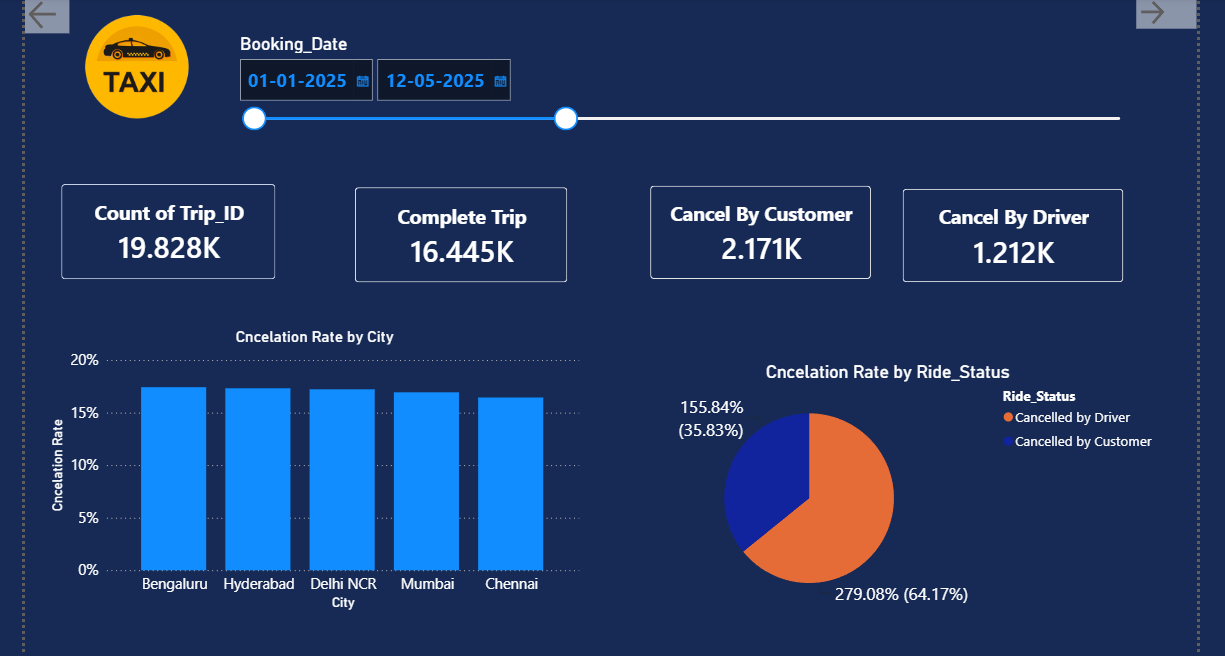

This screenshot's page, from the dashboard's own definition file:
{"tool":"powerbi","page":{"name":"Cancelation","canvas":[1280,720],"ordinal":4},"visuals":[{"type":"pieChart","fields":{"Y":["Trips.Cncelation Rate"],"Category":["Trips.Ride_Status"]},"box":[639.6,398.7,604.9,275.6],"z":0},{"type":"slicer","fields":{"Values":["Trips.Booking_Date"]},"box":[221.9,34.7,994.9,152.5],"z":1000},{"type":"cardVisual","fields":{"Data":["Count(Trips.Trip_ID)"]},"box":[22.5,187.2,268.7,138.7],"z":2000},{"type":"cardVisual","fields":{"Data":["Count(Trips.Trip_ID)"]},"box":[343.2,190.7,266.9,138.7],"z":3000},{"type":"cardVisual","fields":{"Data":["Count(Trips.Trip_ID)"]},"box":[665.8,189.6,276,136.9],"z":4000},{"type":"image","box":[34.7,0,175.1,152.5],"z":5000},{"type":"lineStackedColumnComboChart","fields":{"Category":["Drivers.City"],"Y":["Trips.Cncelation Rate"]},"box":[22.5,360.5,587.6,313.7],"z":6000},{"type":"cardVisual","fields":{"Data":["Count(Trips.Trip_ID)"]},"box":[941.8,191.7,276,136.9],"z":7000},{"type":"actionButton","box":[0,0,48.5,39.9],"z":8000},{"type":"actionButton","box":[1213.3,0,65.9,34.7],"z":9000}]}

Visuals, with their boxes on the page's 1280x720 design canvas (x1, y1, x2, y2). These are canvas units, not pixel positions in the 1225x656 screenshot, which may show the page scaled, cropped or inside an application window:
pieChart - Trips.Cncelation Rate x Trips.Ride_Status: l=640, t=399, r=1244, b=674
slicer - Trips.Booking_Date: l=222, t=35, r=1217, b=187
cardVisual - Count(Trips.Trip_ID): l=22, t=187, r=291, b=326
cardVisual - Count(Trips.Trip_ID): l=343, t=191, r=610, b=329
cardVisual - Count(Trips.Trip_ID): l=666, t=190, r=942, b=326
image: l=35, t=0, r=210, b=152
lineStackedColumnComboChart - Drivers.City x Trips.Cncelation Rate: l=22, t=360, r=610, b=674
cardVisual - Count(Trips.Trip_ID): l=942, t=192, r=1218, b=329
actionButton: l=0, t=0, r=48, b=40
actionButton: l=1213, t=0, r=1279, b=35
